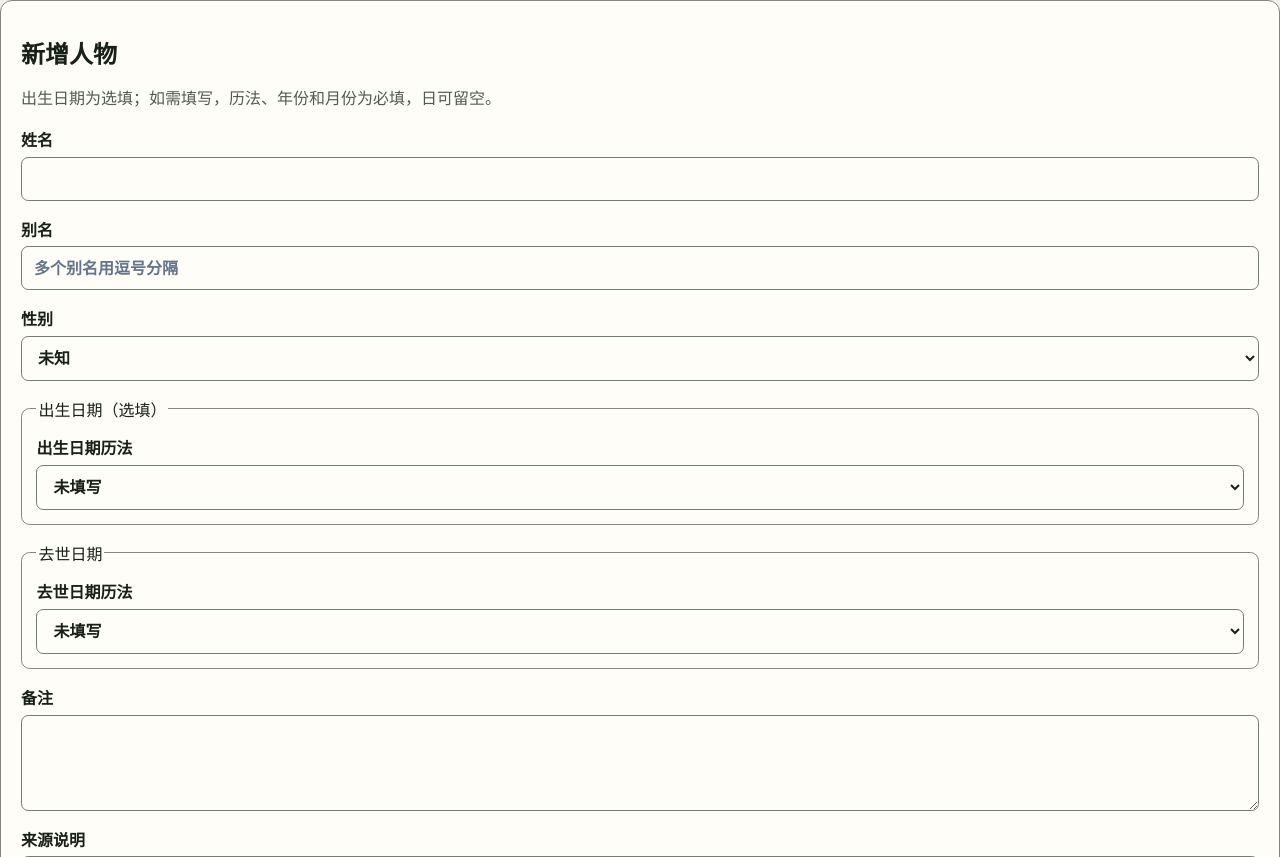
PersonEditor › shows the leap-month control only for lunar dates
This screenshot has width=1280, height=857.
Select "公历" in the dropdown labelled "出生日期历法": (640, 487) [36,465,1244,510]
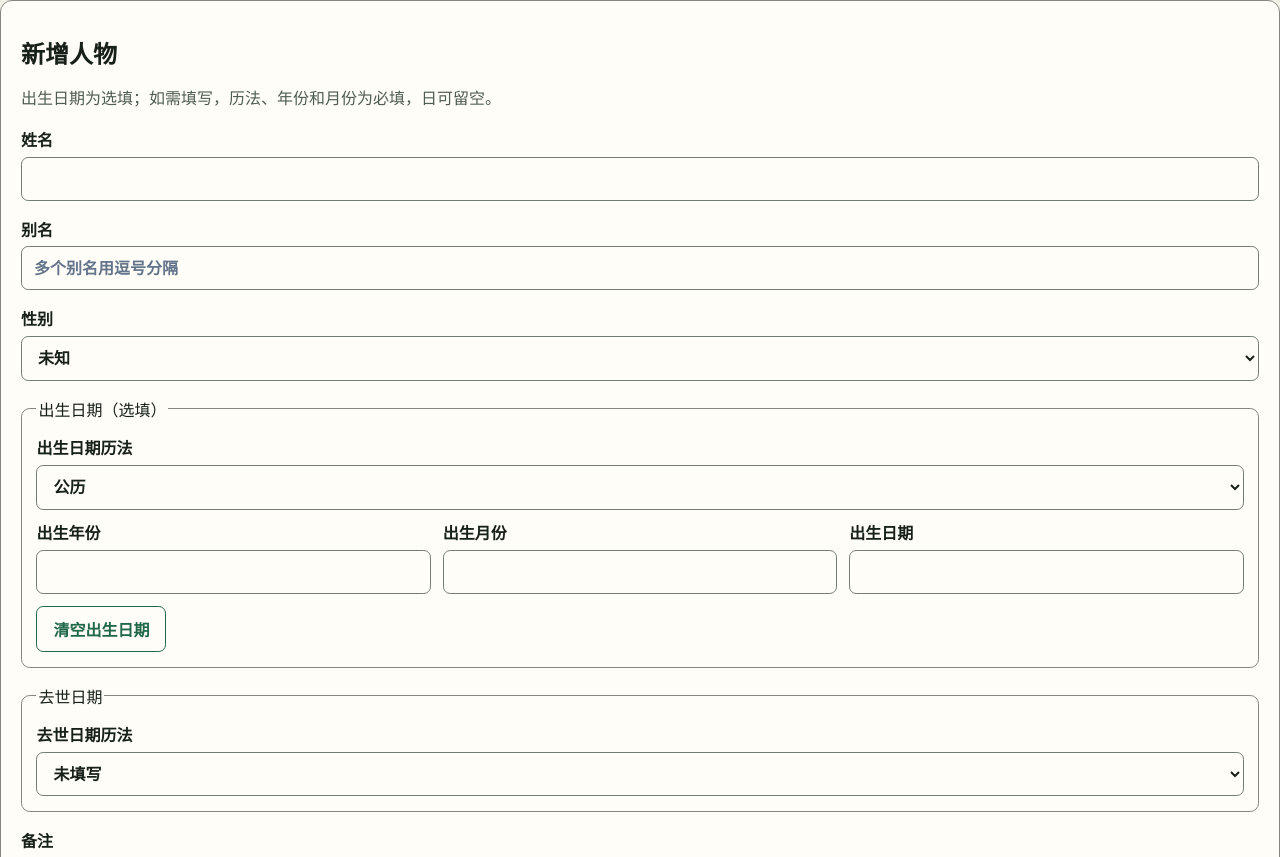
Select "农历" in the dropdown labelled "出生日期历法": (640, 487) [36,465,1244,510]
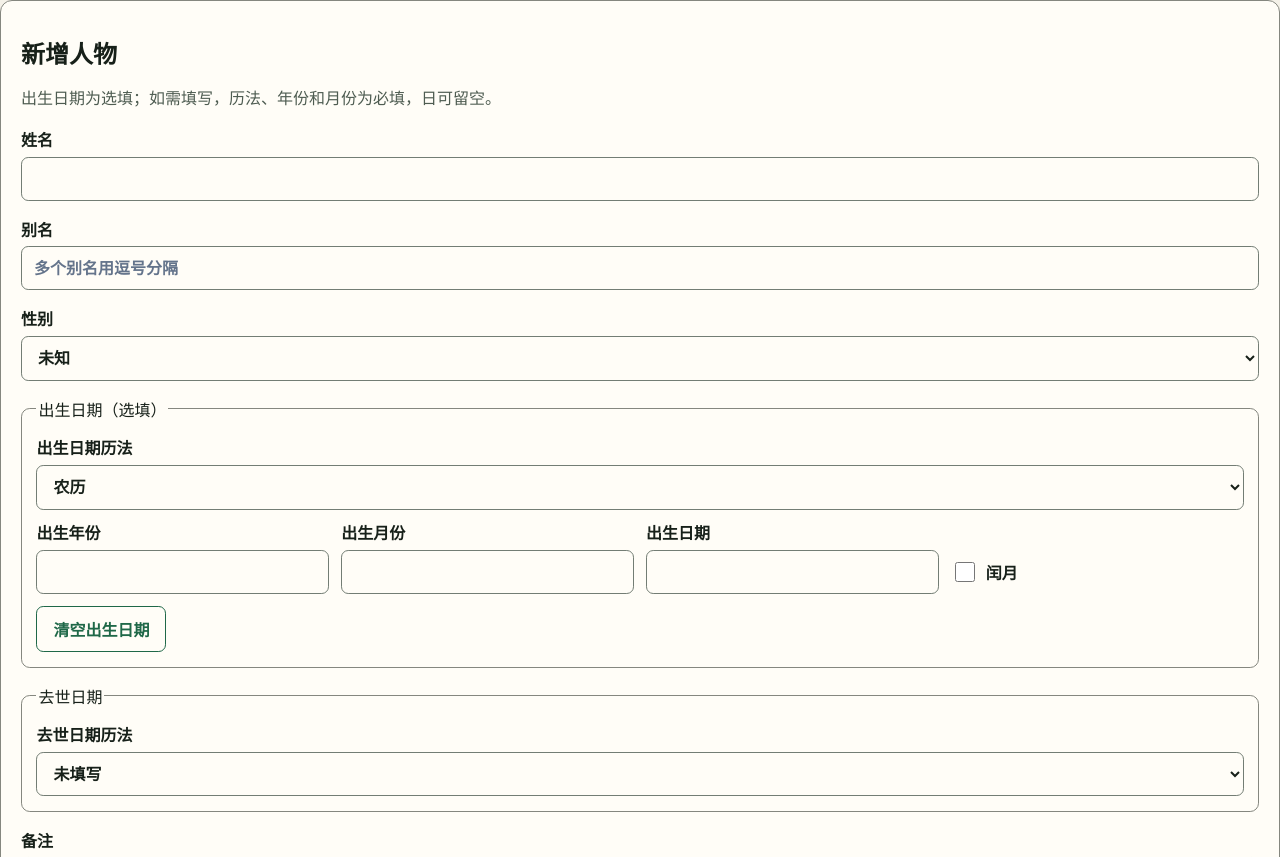
Result: the checkbox named "出生日期为闰月" is shown at [955,562,975,582]
